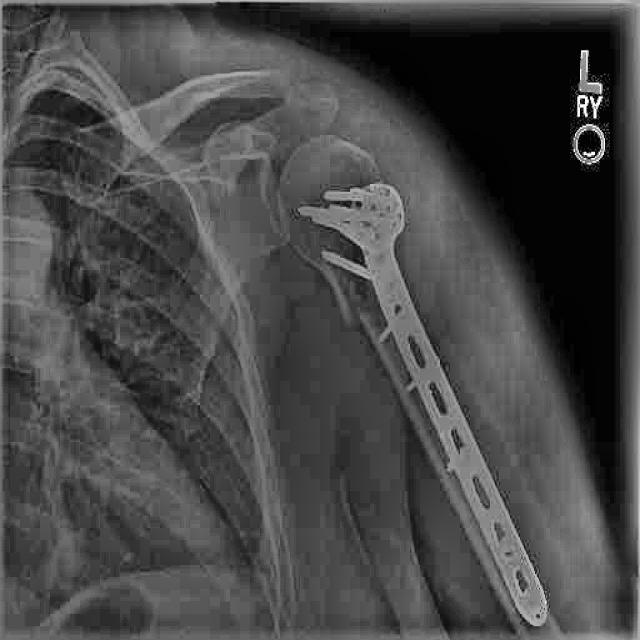shoulder fracture: (316, 275, 385, 356)
